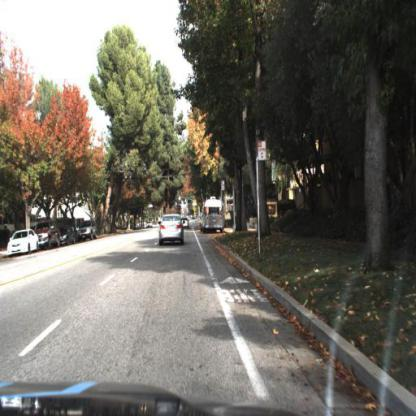car: (154, 203, 191, 252), (4, 227, 40, 260), (37, 216, 63, 254), (74, 216, 99, 245), (59, 220, 78, 248), (56, 228, 78, 249), (177, 211, 192, 233)
truck: (196, 192, 228, 242)
